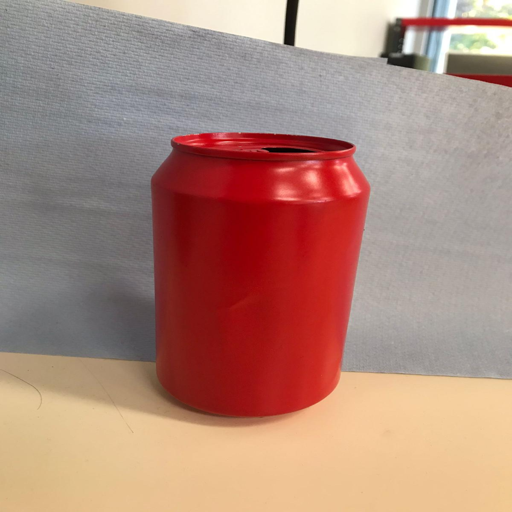Red_Can: (148, 129, 372, 419)
